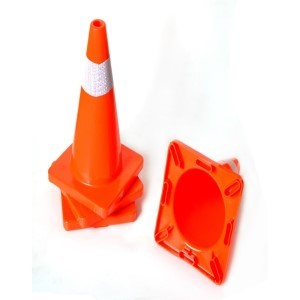traffic cone: (48, 18, 144, 218)
